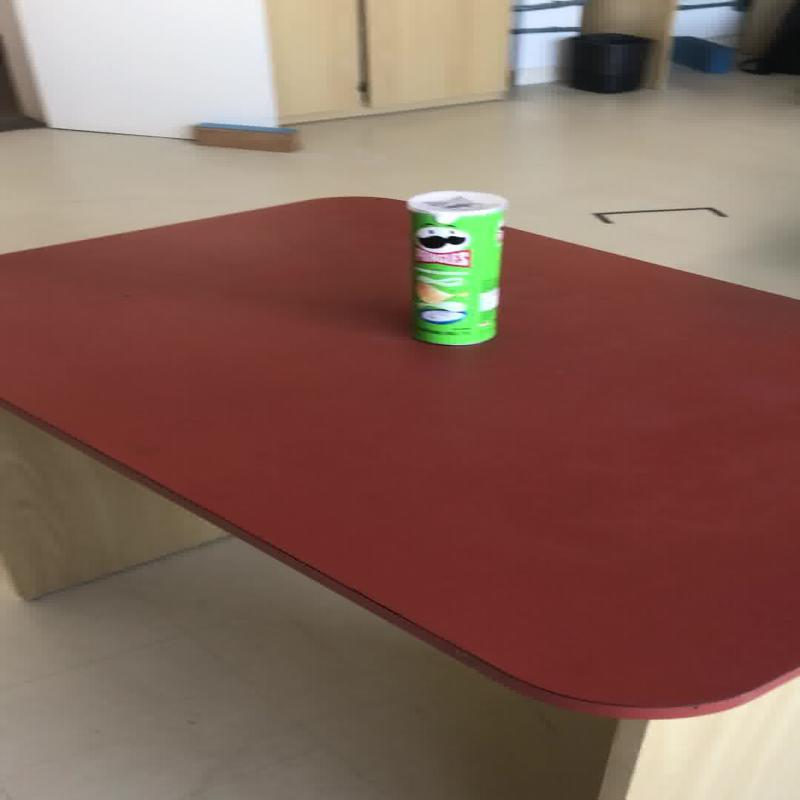pringles: (404, 189, 507, 346)
